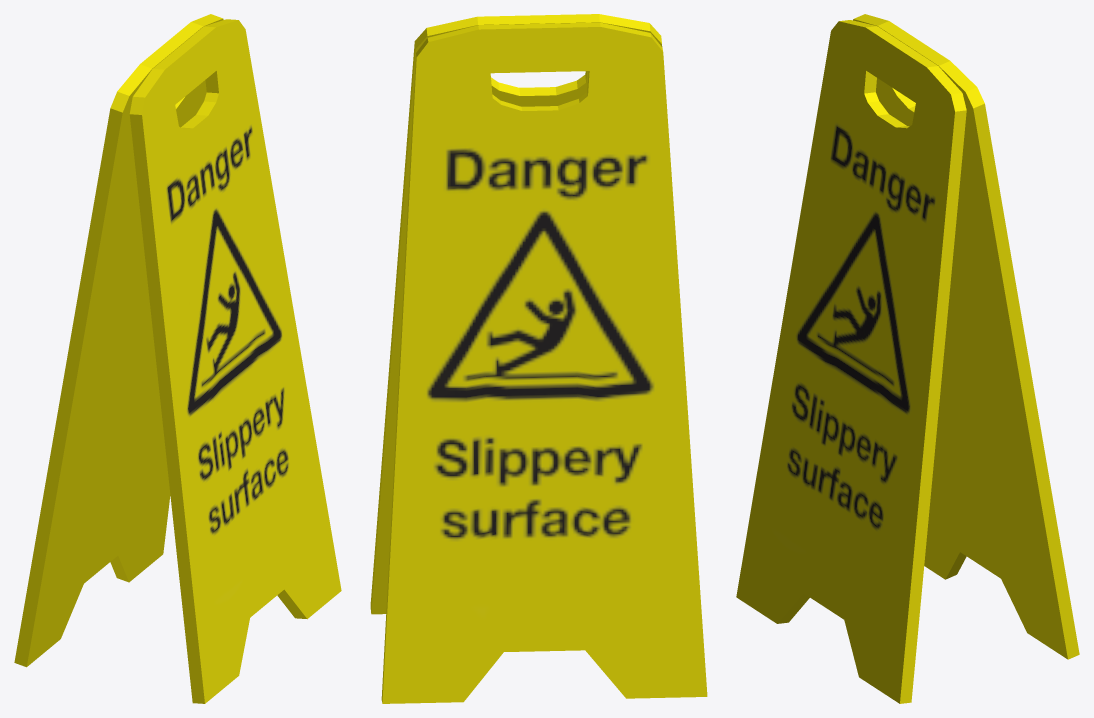
File: Dander_Only.fbx
3 views of the same model, side by side, from view 1: azimuth 30°, elevation 25°; view 2: azimuth 150°, elevation 25°; view 3: azimuth 270°, elevation 25° (orthographic). The views are drawn at different scales.
Visible parts, largest first — view 1: Danger; view 2: Danger; view 3: Danger.
Part boxes in pixels (<box>): Danger: <box>14,14,341,703</box>; Danger: <box>370,14,707,703</box>; Danger: <box>736,14,1079,703</box>.
Bounding box in the file's own units: 29.46 × 51.42 × 27.42.
